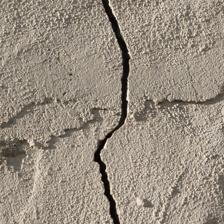Crack: (46, 2, 89, 222)
